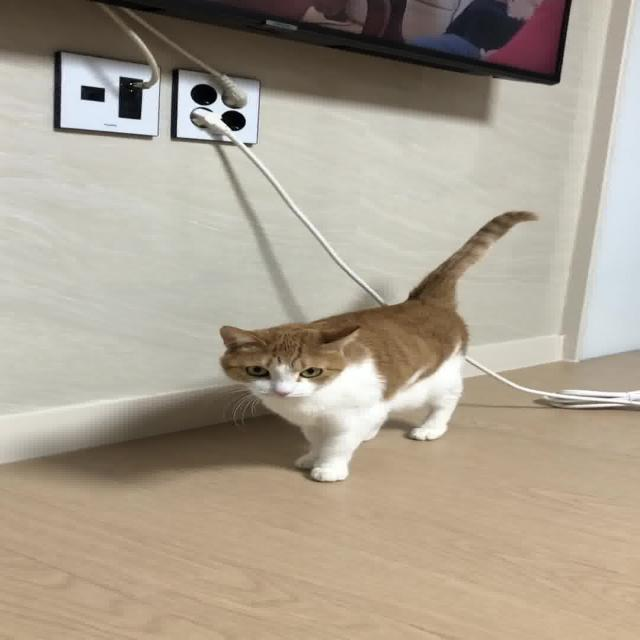cat: (190, 202, 550, 493)
